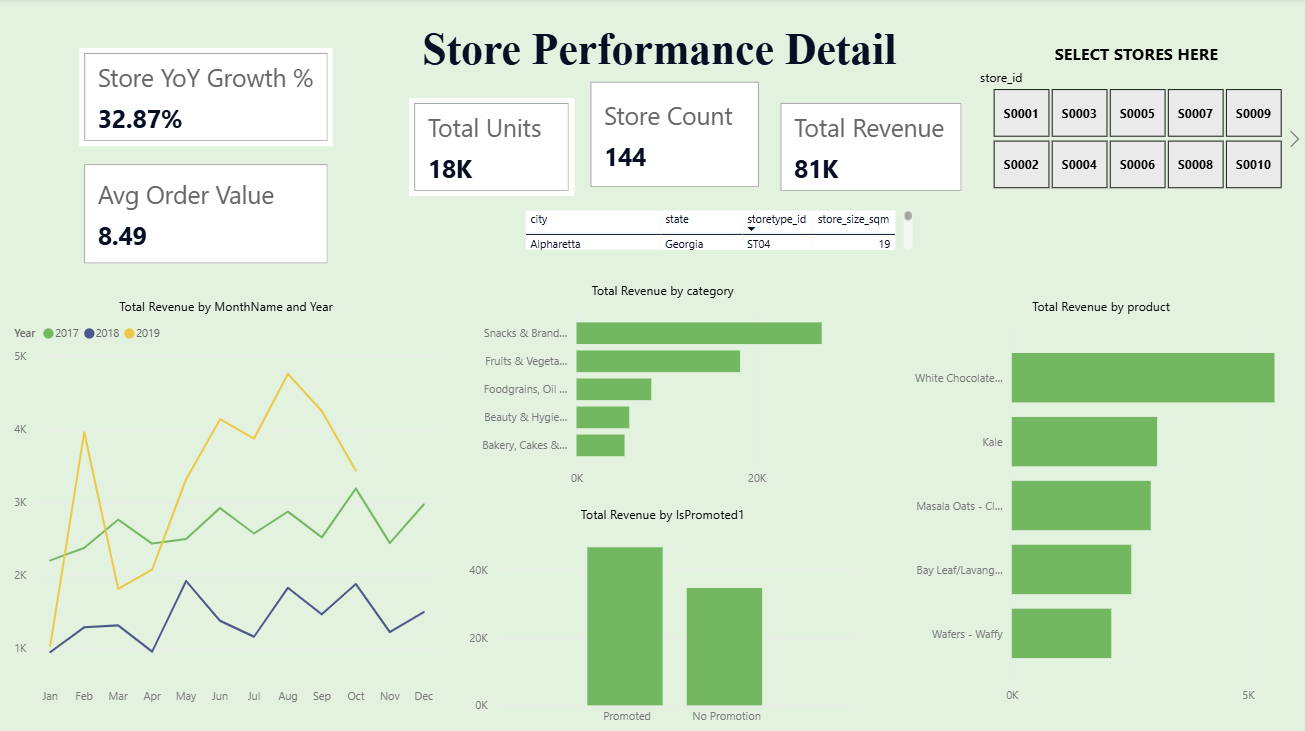

This screenshot's page, from the dashboard's own definition file:
{"tool":"powerbi","page":{"name":"Store Detail","canvas":[1280,720],"ordinal":7},"visuals":[{"type":"cardVisual","fields":{"Data":["Sales.Total Revenue"]},"box":[760.2,97.4,188,96.1],"z":0},{"type":"cardVisual","fields":{"Data":["Sales.Avg Order Value"]},"box":[79.6,157.8,248.4,107],"z":1000},{"type":"cardVisual","fields":{"Data":["Stores.Store Count"]},"box":[575,76.8,175.6,113.9],"z":2000},{"type":"cardVisual","fields":{"Data":["Sales.Total Units"]},"box":[402.1,97.4,161.9,96.1],"z":3000},{"type":"textbox","box":[366.4,20.6,559.9,67.2],"z":4000},{"type":"lineChart","fields":{"Category":["DateTable.MonthName"],"Series":["DateTable.Year"],"Y":["Sales.Total Revenue"]},"box":[11,293.7,424,406.2],"z":5000},{"type":"barChart","fields":{"Category":["Products.category"],"Y":["Sales.Total Revenue"]},"box":[455.8,277.2,388.3,209.6],"z":6000},{"type":"tableEx","fields":{"Values":["Stores.city","Stores.state","Stores.storetype_id","Stores.store_size_sqm"]},"box":[510.5,203.1,389.7,48],"z":7000},{"type":"barChart","fields":{"Category":["Products.product"],"Y":["Sales.Total Revenue"]},"box":[878.2,293.7,402.1,406.2],"z":8000},{"type":"cardVisual","fields":{"Data":["Stores.Store YoY Growth %"]},"box":[79.6,49.4,248.4,96.1],"z":9000},{"type":"columnChart","fields":{"Category":["Sales.IsPromoted1"],"Y":["Sales.Total Revenue"]},"box":[455.8,496.6,388.3,223.7],"z":10000},{"type":"slicer","title":"SELECT STORES HERE","fields":{"Values":["Stores.store_id"]},"box":[948,43,332,150],"z":11000}]}

Visuals, with their boxes in screenshot pixels (x1, y1, x2, y2), scaled from the page's 1280x720 canvas onto the 1305x731 screenshot:
cardVisual - Sales.Total Revenue: locate(775, 99, 967, 196)
cardVisual - Sales.Avg Order Value: locate(81, 160, 334, 269)
cardVisual - Stores.Store Count: locate(586, 78, 765, 194)
cardVisual - Sales.Total Units: locate(410, 99, 575, 196)
textbox: locate(374, 21, 944, 89)
lineChart - DateTable.MonthName x DateTable.Year: locate(11, 298, 443, 711)
barChart - Products.category x Sales.Total Revenue: locate(465, 281, 861, 494)
tableEx - Stores.city x Stores.state: locate(520, 206, 918, 255)
barChart - Products.product x Sales.Total Revenue: locate(895, 298, 1304, 711)
cardVisual - Stores.Store YoY Growth %: locate(81, 50, 334, 148)
columnChart - Sales.IsPromoted1 x Sales.Total Revenue: locate(465, 504, 861, 730)
"SELECT STORES HERE" slicer: locate(967, 44, 1304, 196)
